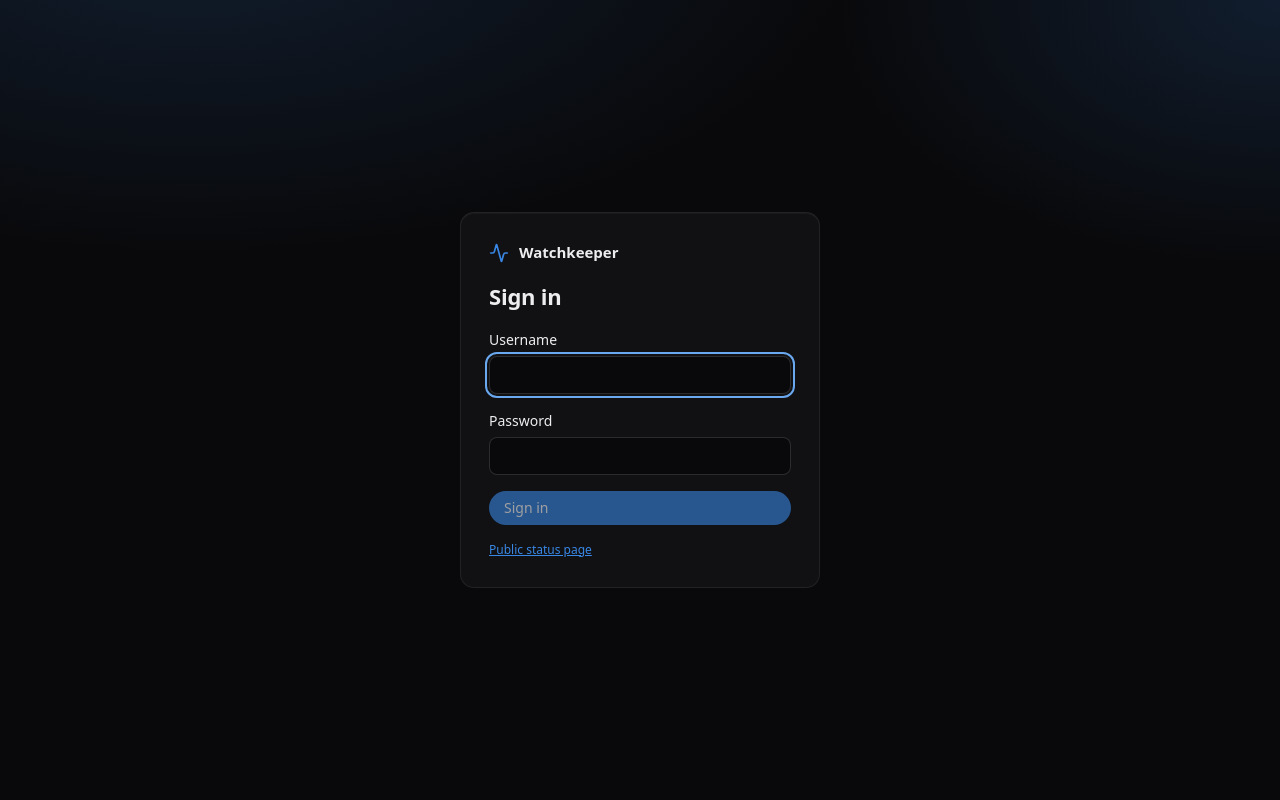
it: App › announces a failed login
In the field labelled "Username": coordinates (640, 375) [489, 356, 791, 394], type "diego"
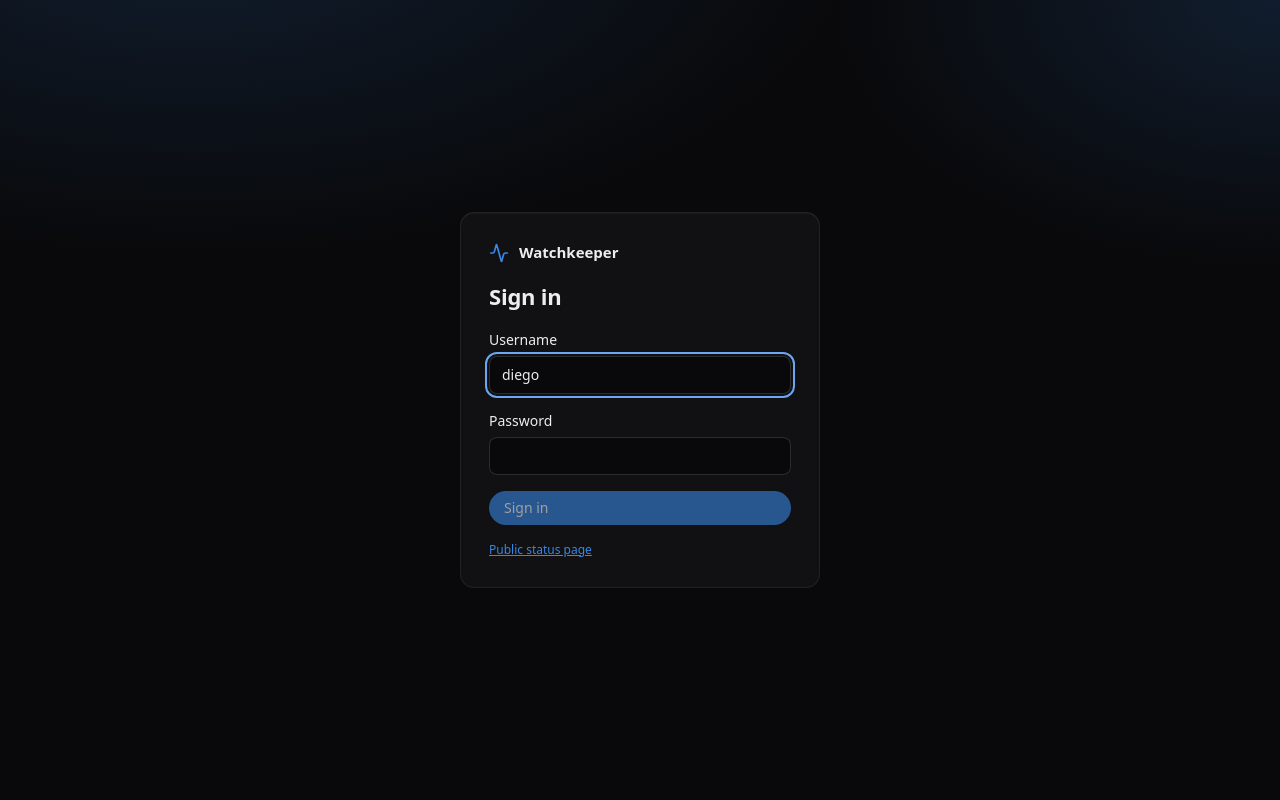
In the password field labelled "Password": coordinates (640, 456) [489, 437, 791, 475], type "nope"
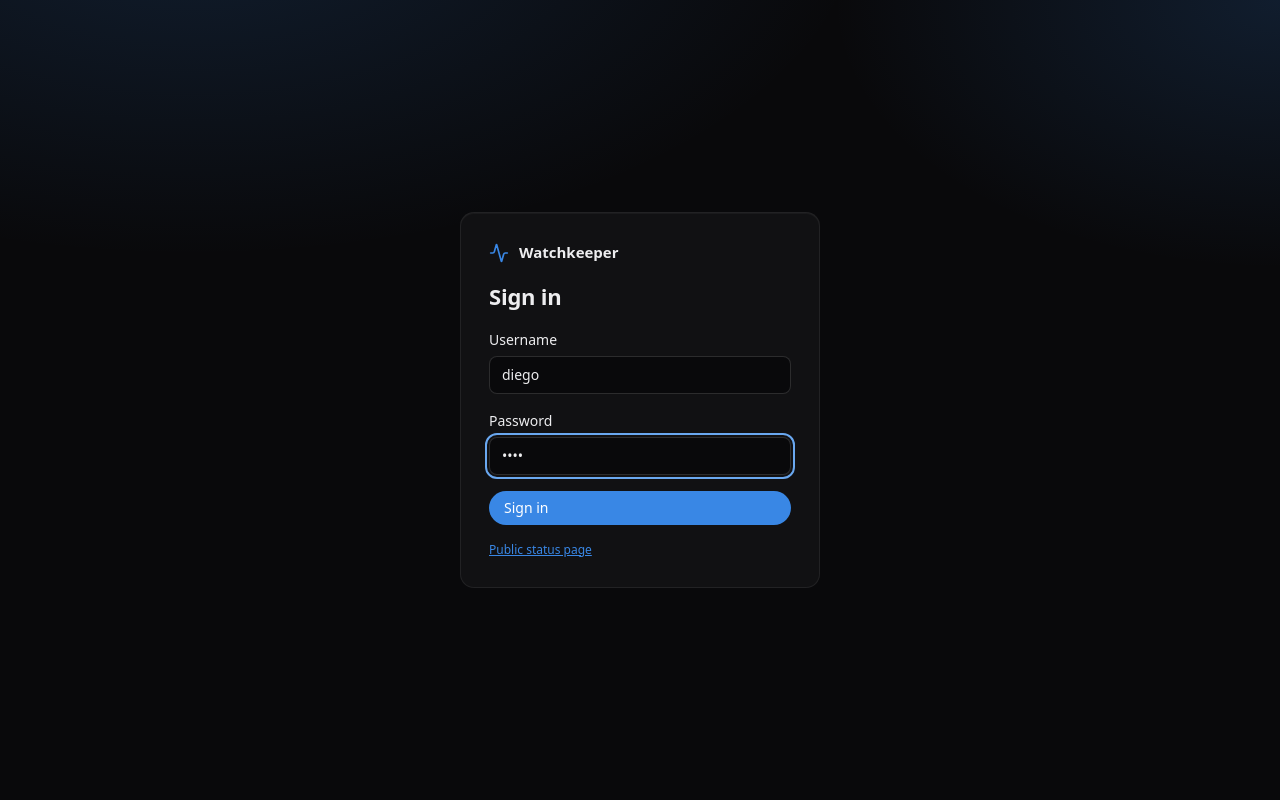
Click the button "Sign in": coordinates (526, 508) [489, 491, 791, 525]
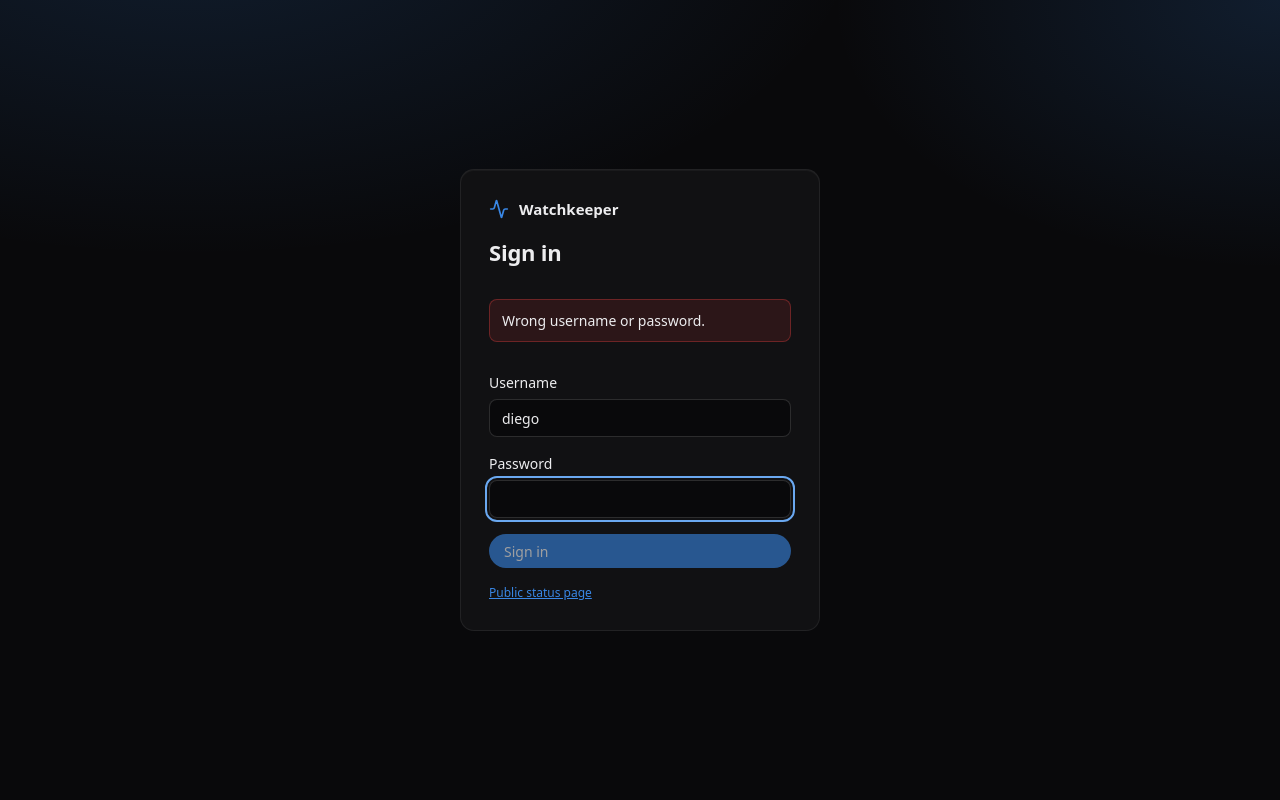
Now the message reads "Wrong username or password.", box [502, 311, 705, 330]
